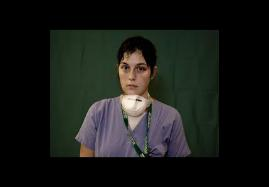mask_weared_incorrect: (120, 62, 150, 107)
